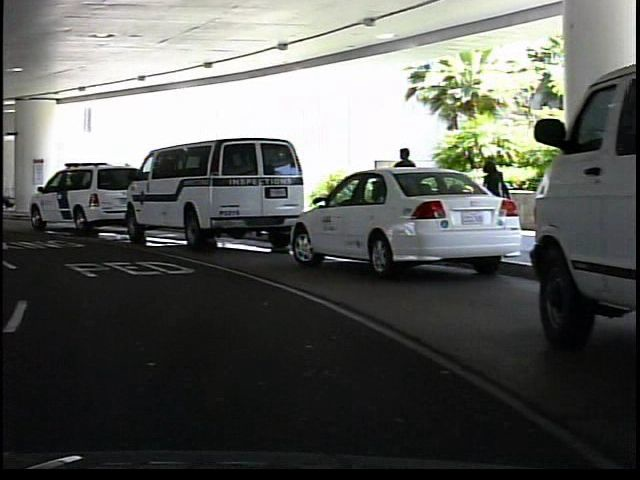person: (475, 154, 512, 244), (388, 144, 422, 237)
